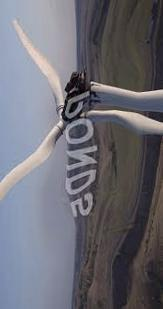faulty: (28, 52, 105, 129)
